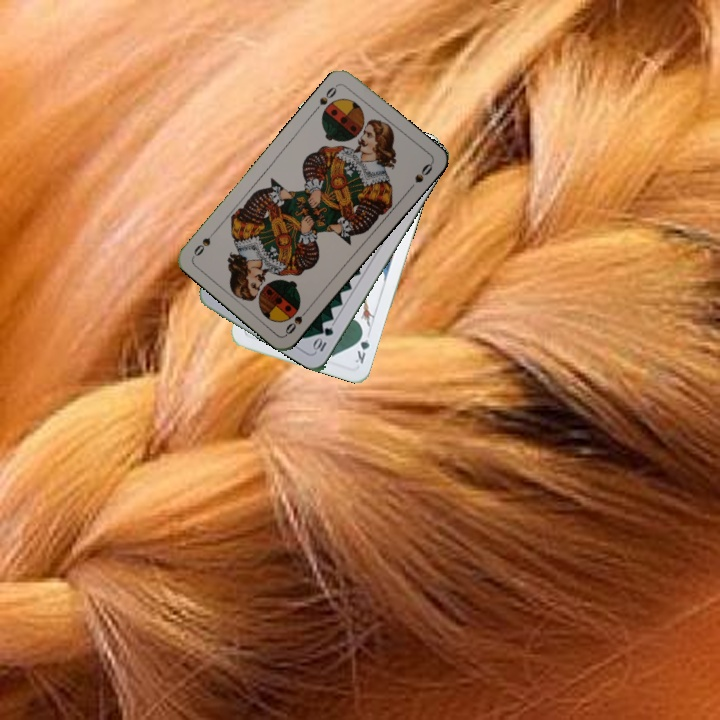G10: (309, 323, 336, 354)
GK: (350, 326, 372, 366)
SO: (281, 303, 312, 337), (310, 80, 341, 114)
